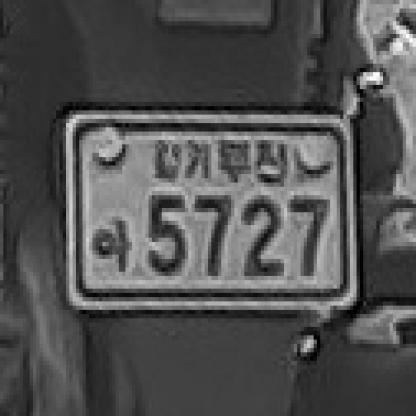bnum: (58, 108, 366, 315)
